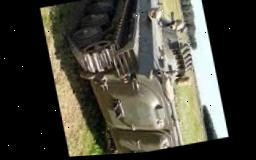tank: (60, 0, 213, 156)
